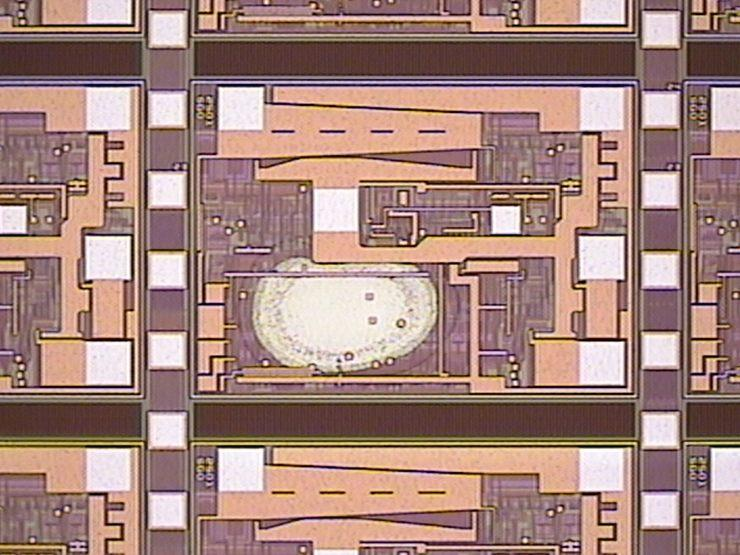BLOCK ETCH: (235, 228, 466, 392)
